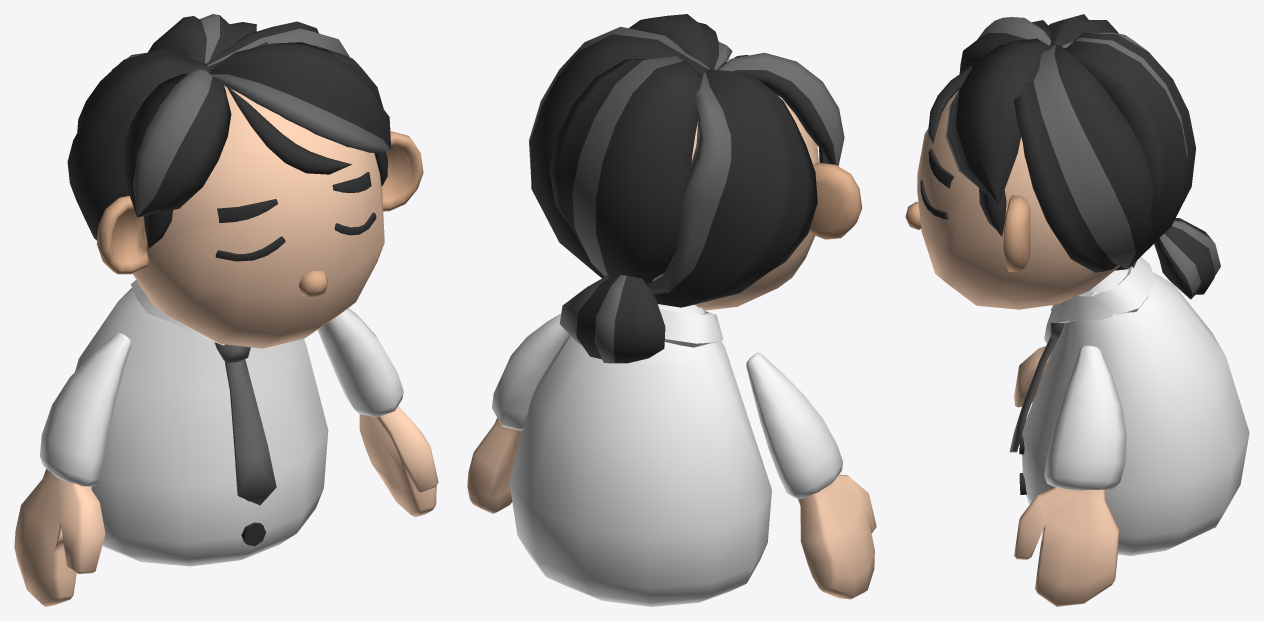
File: H_worker_w_01.fbx
The picture shows the model from 3 angles, left to right: view 1: azimuth 30°, elevation 25°; view 2: azimuth 150°, elevation 25°; view 3: azimuth 270°, elevation 25°; orthographic projection. The views are drawn at different scales.
Visible parts, largest first — view 1: H_worker_m_01; view 2: H_worker_m_01; view 3: H_worker_m_01.
Boxes of the visible parts, x1,y1,x2,y2 form: H_worker_m_01: (14, 14, 438, 606); H_worker_m_01: (467, 14, 876, 606); H_worker_m_01: (905, 14, 1249, 606).
Size of the model in its own units: 49.89 by 63.66 by 41.05.
1 material, 1 textured.
